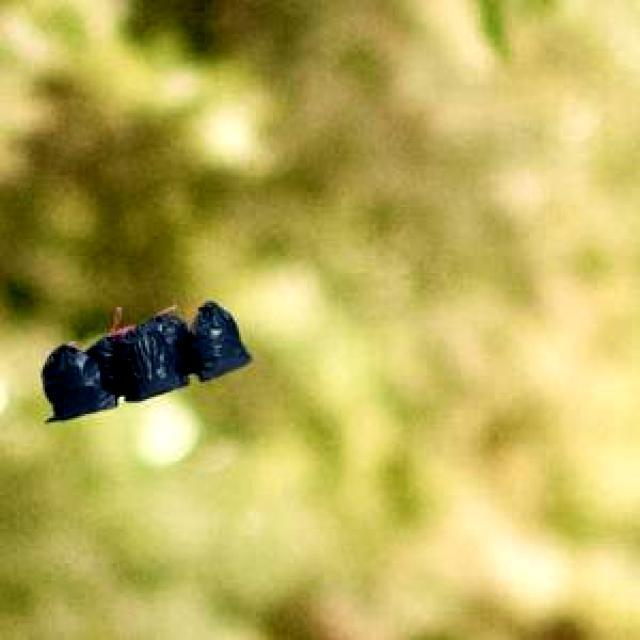Garbage_Bag: (40, 298, 248, 420)
